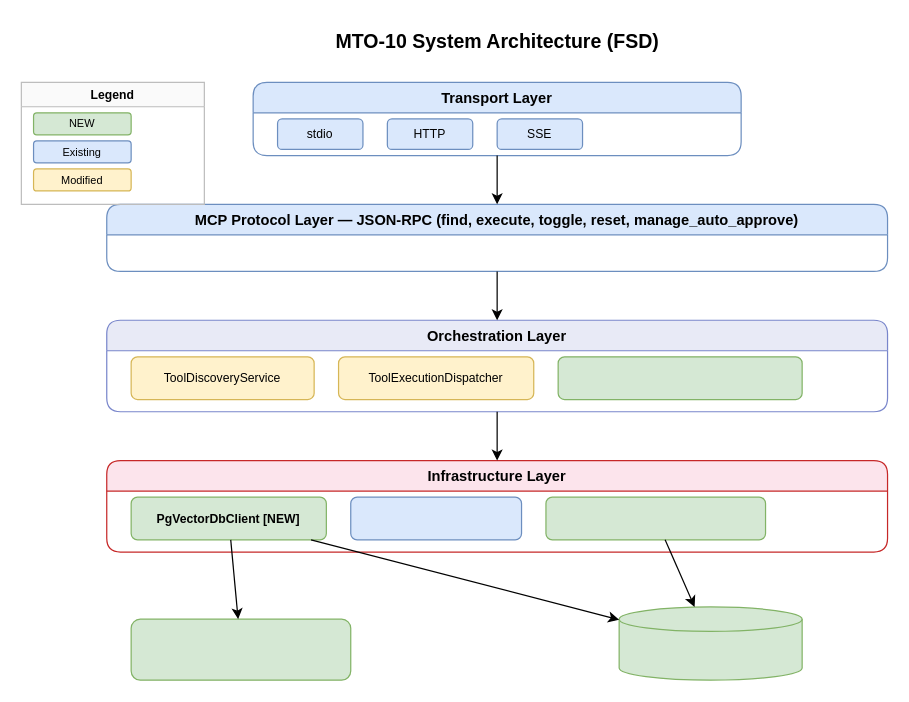
Image size: 909x702. Some labels were removed from this diagram. Each missing label, with the centre of its shape:
"ConfigDbSyncService [NEW]" belongs at point 655,518.
"Ollama / LMStudio Embedding [NEW]" belongs at point 240,649.
"PostgreSQL (pgvector) [NEW]" belongs at point 710,643.
"ToolManagementService [NEW]" belongs at point 679,378.
"UpstreamServerMgr" belongs at point 436,518.
